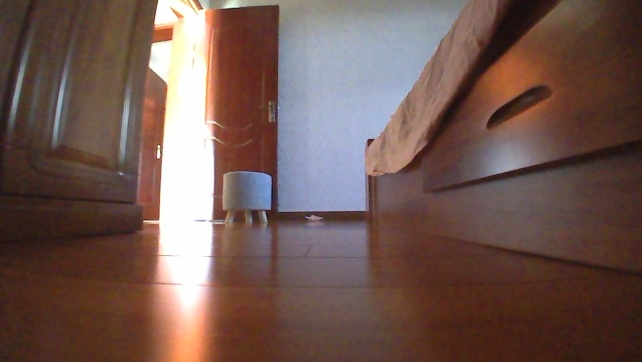bed1: (363, 0, 641, 275)
door_anno: (180, 0, 281, 221)
